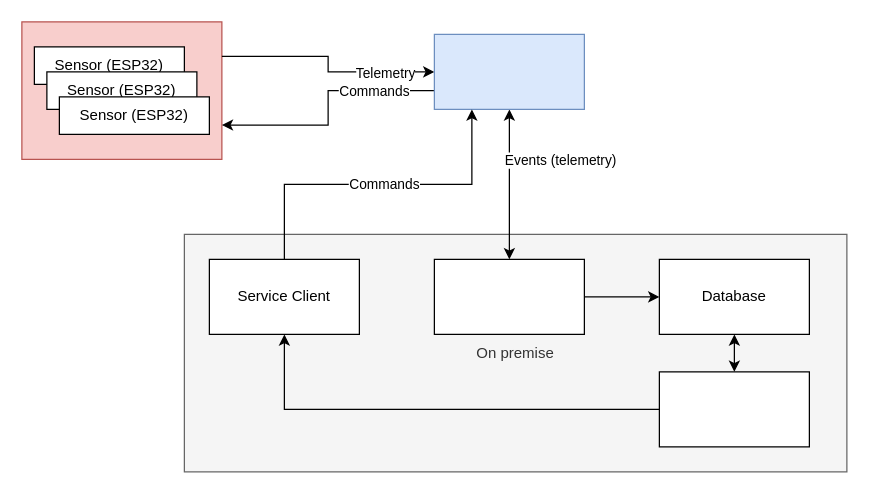
The diagram is 869 pixels wide and 494 high, and some of its shapes have lost their labels. The shapes that lost their labels are listed below. From the top down, each one's centre as x and y in pixels, then its label:
point (508, 71): Azure
point (508, 296): Event processor
point (733, 409): Web app
